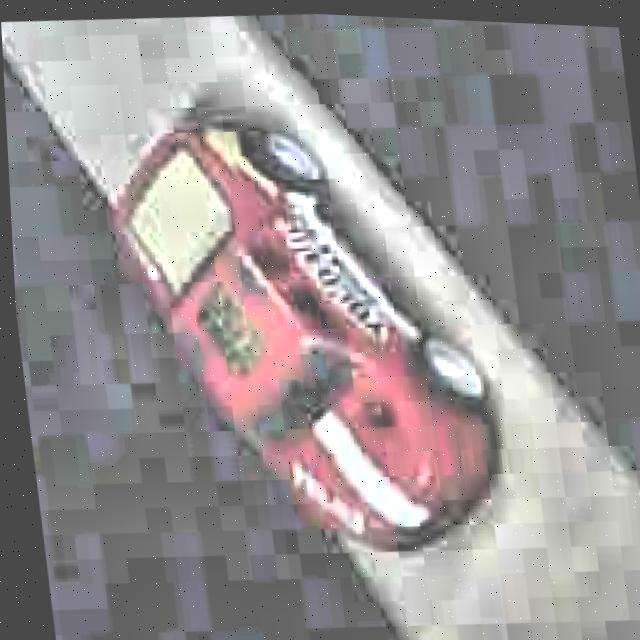car: (90, 95, 522, 579)
